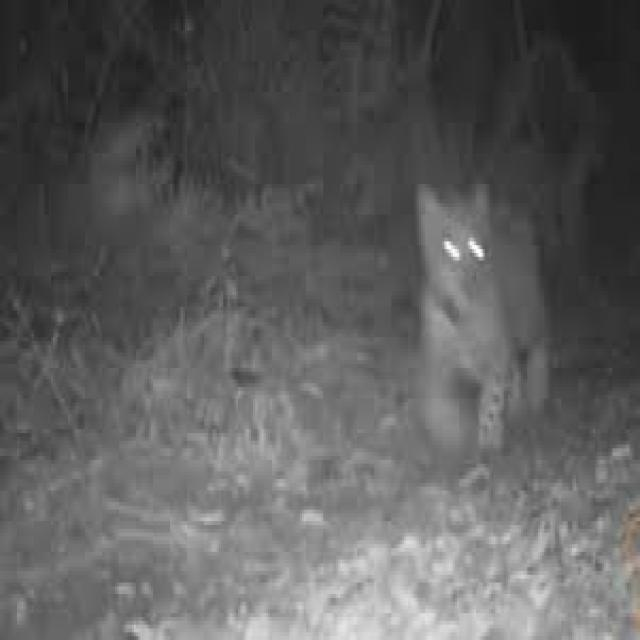Jaguar: (410, 176, 544, 448)
